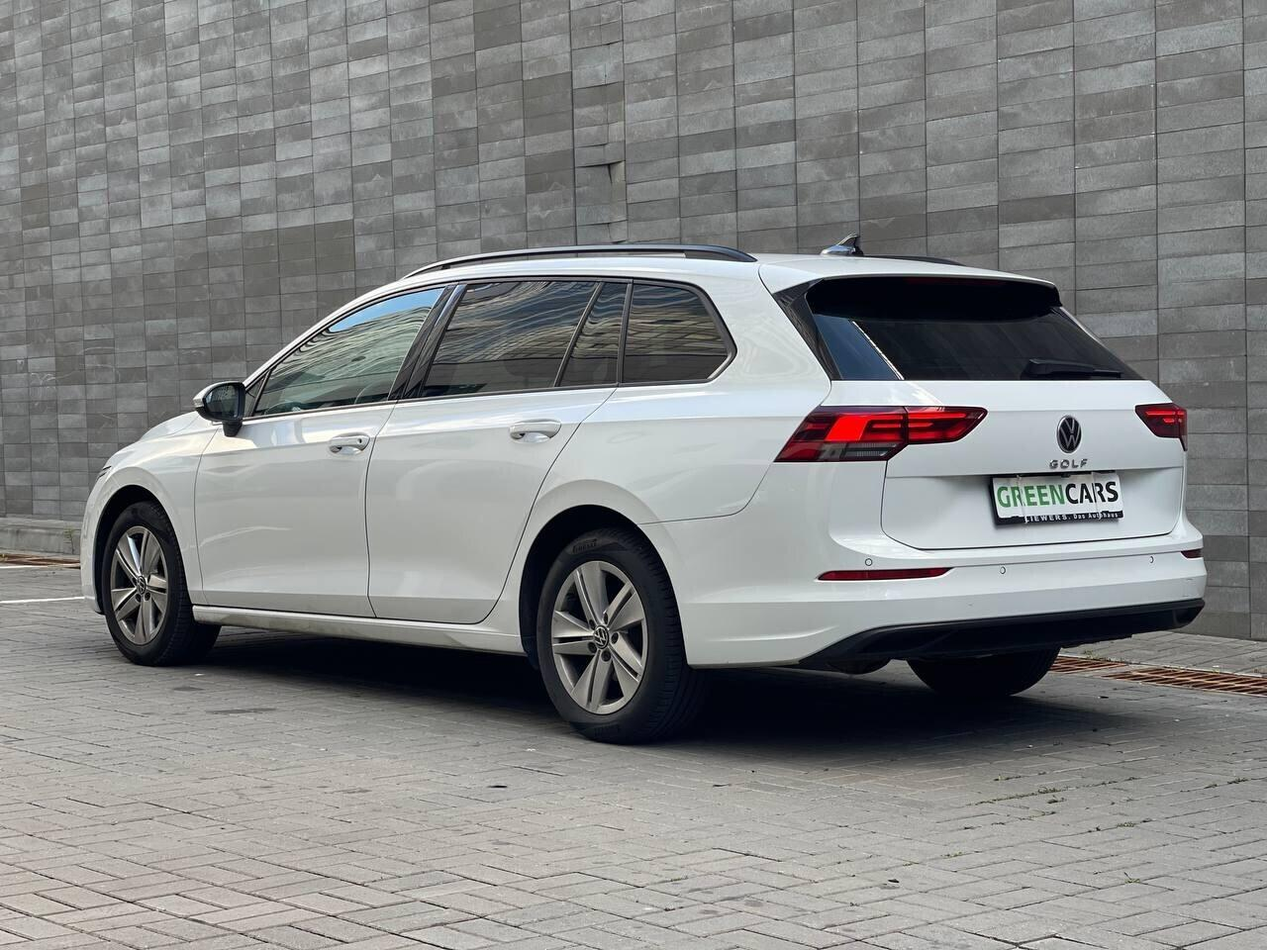Golf_2019: (78, 247, 1210, 742)
